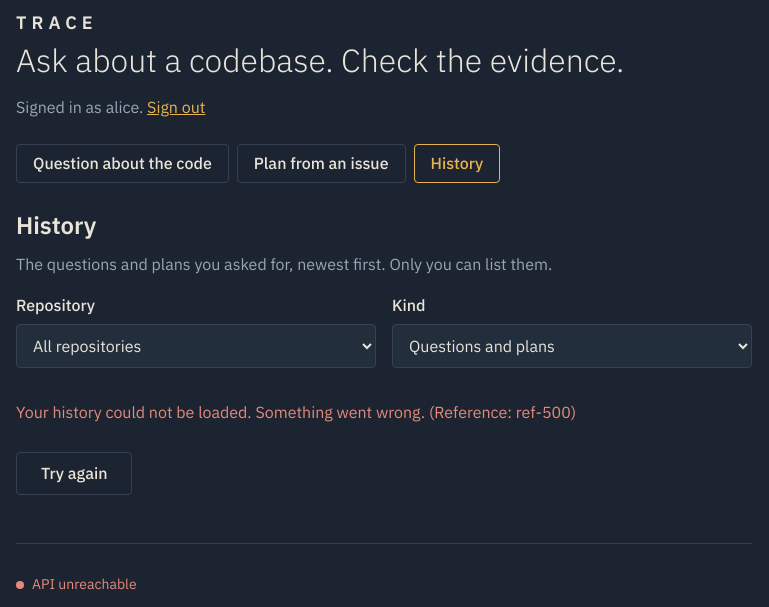
Test case: the history list › shows an error with the reference when the list cannot be loaded, and can try again
Check: the message "Your history could not be loaded. Something went wrong. (Reference: ref-500)" is shown, box [16,402,576,422]
What coordinates should you click on to do the following:
click the button "Try again"
I would click on:
 (74, 474)
Its box is [16,452,132,495].
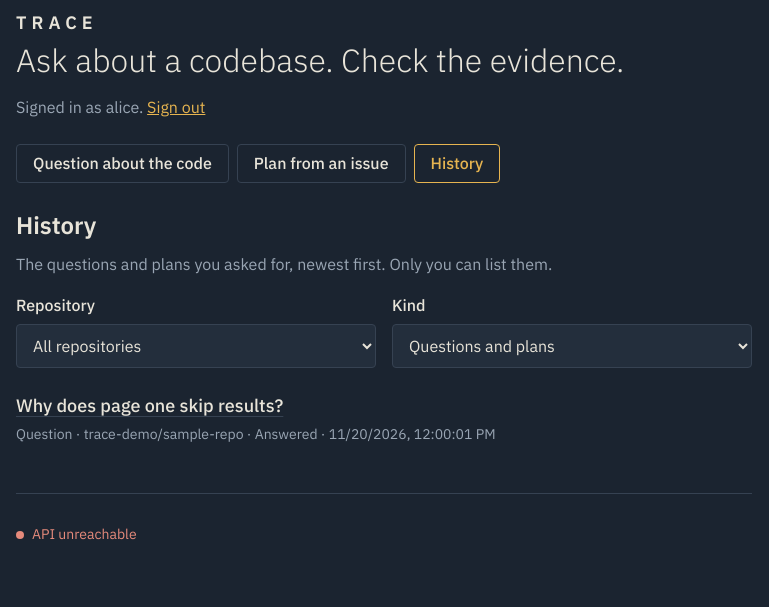
Check: the link "Why does page one skip results?" is shown, box [16,394,283,417]
